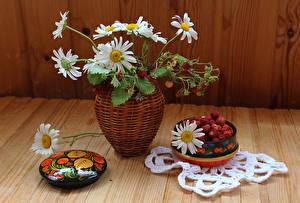chamomile: (55, 51, 79, 80), (103, 47, 130, 70), (35, 130, 59, 153), (177, 129, 199, 150), (175, 20, 196, 39), (97, 22, 121, 37), (141, 27, 160, 44), (52, 18, 68, 36), (121, 20, 141, 33)
